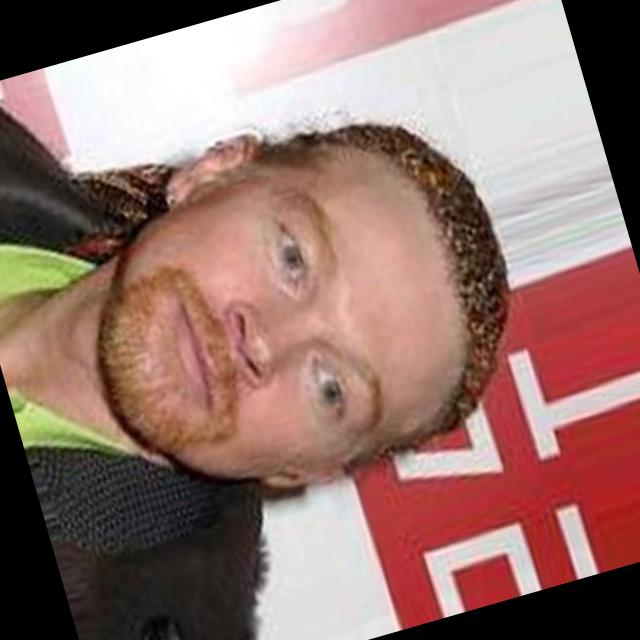bareface: (70, 94, 554, 530)
